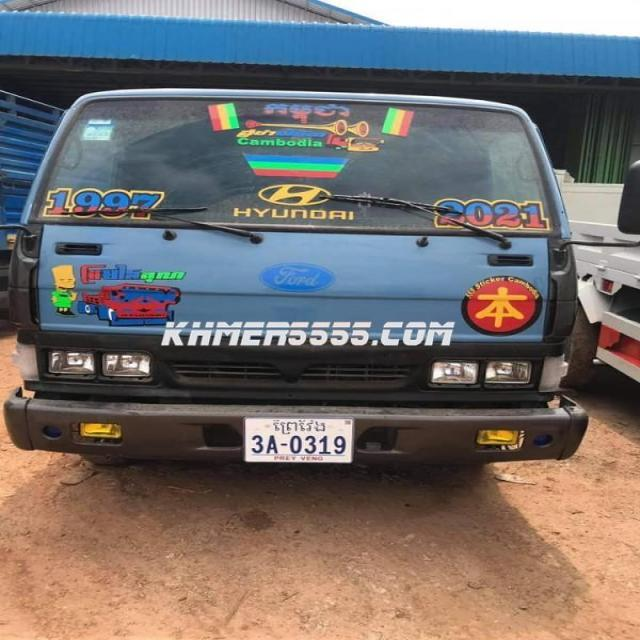Prey_Veng: (271, 417, 328, 436)
